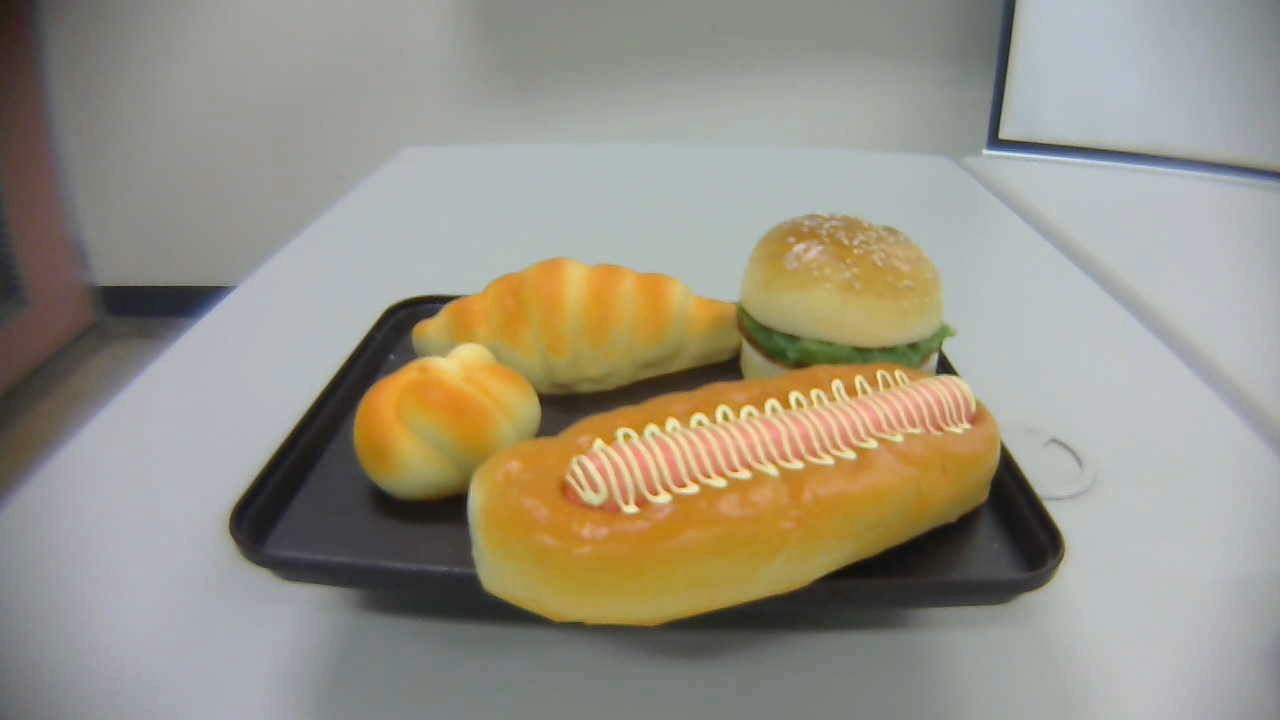croissant: (412, 256, 741, 392)
hamburger: (737, 212, 956, 399)
hot dog: (467, 365, 1000, 628)
twist bread: (352, 344, 544, 500)
